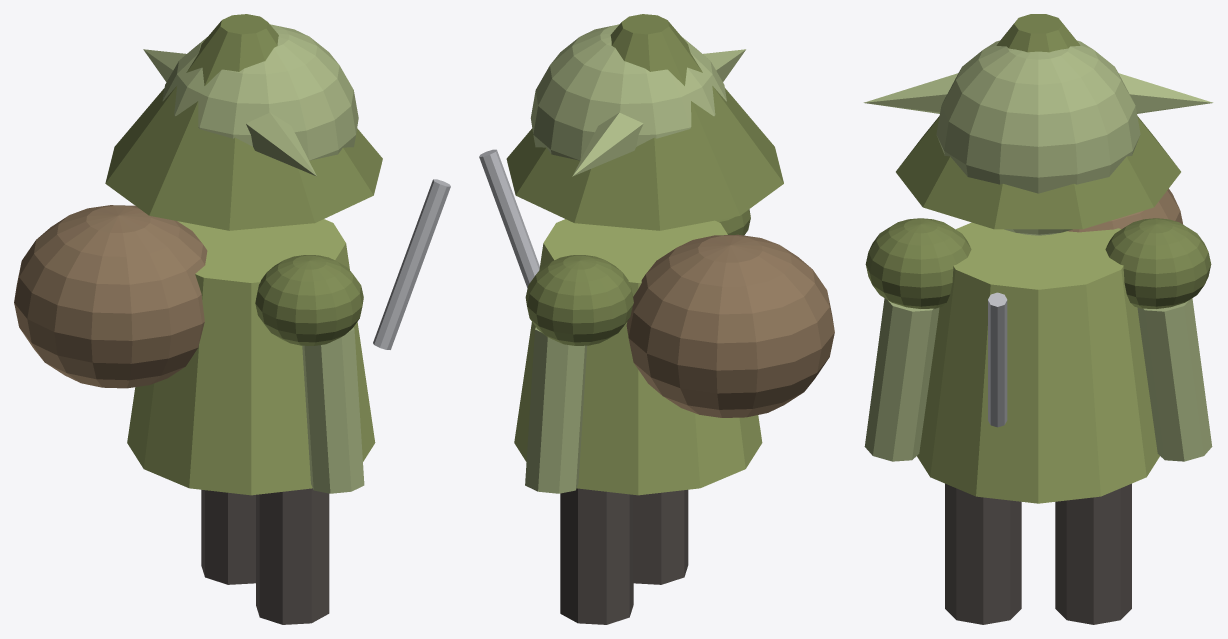
The model's file is hero_gryk_0.glb.
3 renders of one model, left to right at view 1: azimuth 30°, elevation 25°; view 2: azimuth 150°, elevation 25°; view 3: azimuth 270°, elevation 25°, orthographic.
Visible parts, largest first — view 1: figurka; view 2: figurka; view 3: figurka.
Boxes of the visible parts, bbox=[...] form: figurka: bbox=[14, 14, 450, 624]; figurka: bbox=[479, 14, 834, 624]; figurka: bbox=[863, 14, 1213, 624].
Bounding box in the file's own units: 0.5439 × 0.776 × 0.4295.
